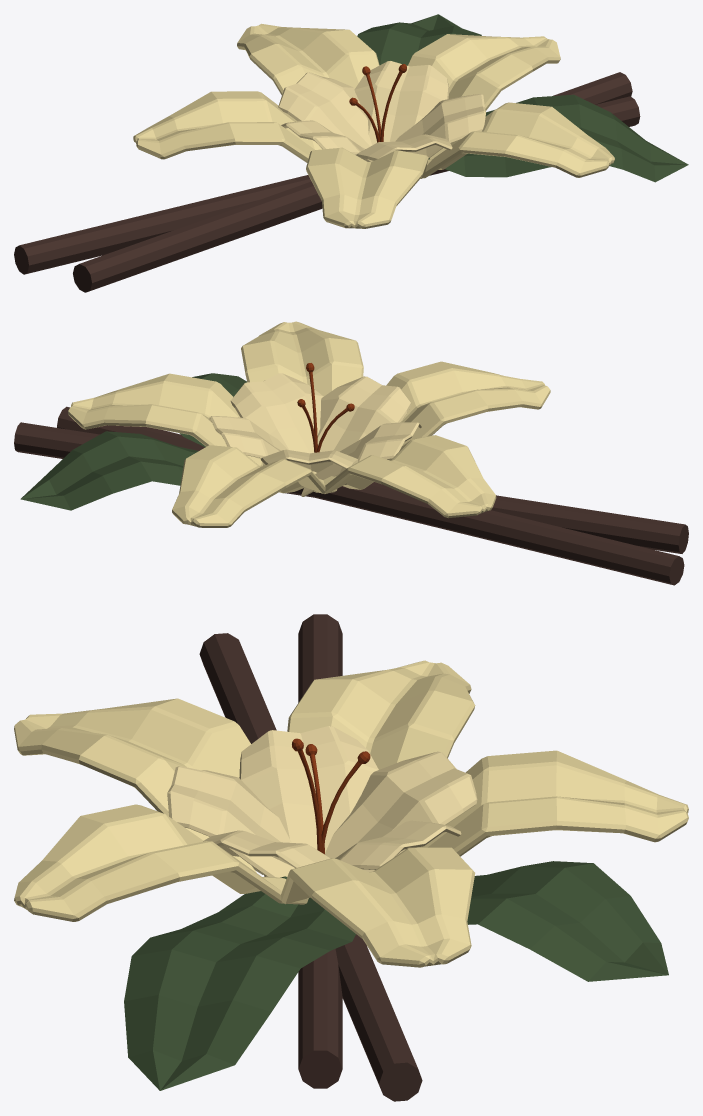
File: vanilla.fbx
3 views of the same model, one above another, from view 1: azimuth 30°, elevation 25°; view 2: azimuth 150°, elevation 25°; view 3: azimuth 270°, elevation 25° (orthographic). The views are drawn at different scales.
Visible parts, largest first — view 1: Cube, Plane, Cylinder.004, Cylinder.003, Plane.002, Plane.001; view 2: Cube, Plane, Cylinder.003, Plane.001, Cylinder.004, Plane.002; view 3: Cube, Plane, Plane.002, Plane.001, Cylinder.004, Cylinder.003.
Boxes of the visible parts, bbox=[...] form: Cube: bbox=[133, 23, 614, 228]; Plane: bbox=[278, 61, 486, 161]; Cylinder.004: bbox=[73, 72, 632, 292]; Cylinder.003: bbox=[14, 96, 640, 274]; Plane.002: bbox=[428, 94, 688, 182]; Plane.001: bbox=[357, 14, 481, 65]; Cube: bbox=[68, 321, 550, 527]; Plane: bbox=[209, 373, 421, 496]; Cylinder.003: bbox=[57, 406, 684, 585]; Plane.001: bbox=[20, 431, 198, 510]; Cylinder.004: bbox=[14, 422, 688, 553]; Plane.002: bbox=[179, 373, 246, 447]; Cube: bbox=[14, 660, 688, 967]; Plane: bbox=[167, 726, 477, 877]; Plane.002: bbox=[124, 876, 355, 1090]; Plane.001: bbox=[467, 861, 668, 981]; Cylinder.004: bbox=[199, 633, 422, 1101]; Cylinder.003: bbox=[298, 614, 342, 1088].
Size of the model in its own units: 1450 by 273 by 918.
